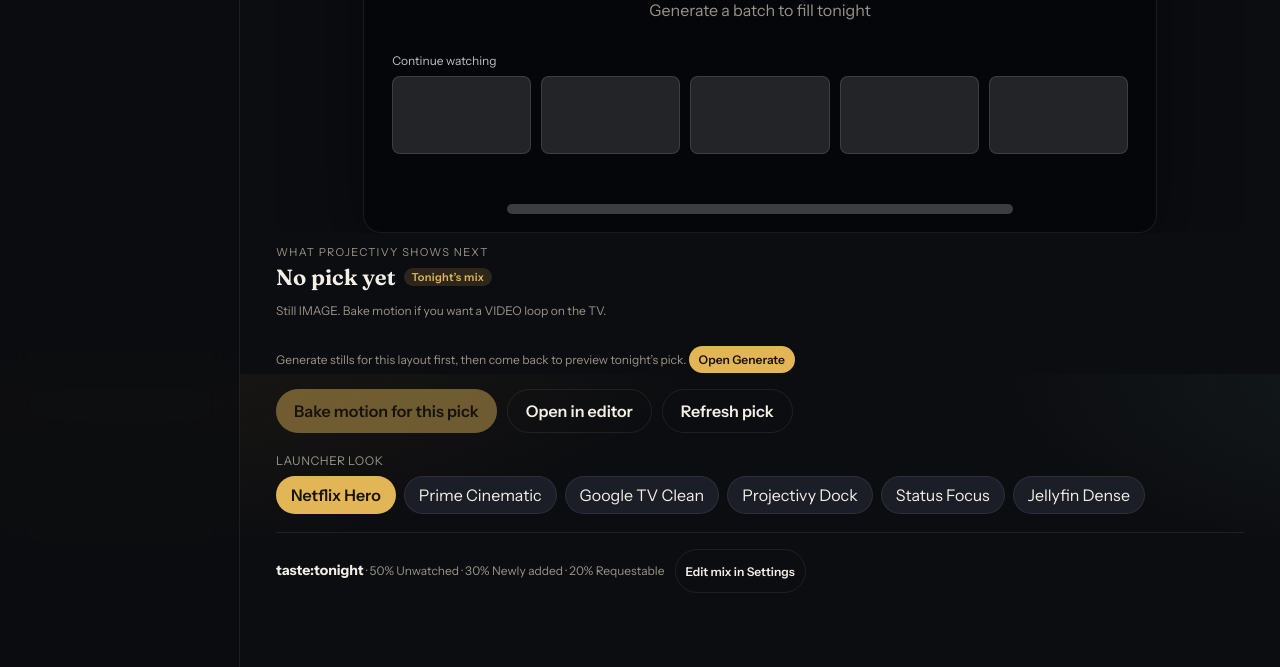
Test: Tonight page › sends mix editing to Settings without exposing generate knobs
(page scrolled)
What coordinates should you click on to do the following:
click the button "Edit mix in Settings"
I would click on:
 (740, 571)
Its box is [674,549,806,593].
(page scrolled)
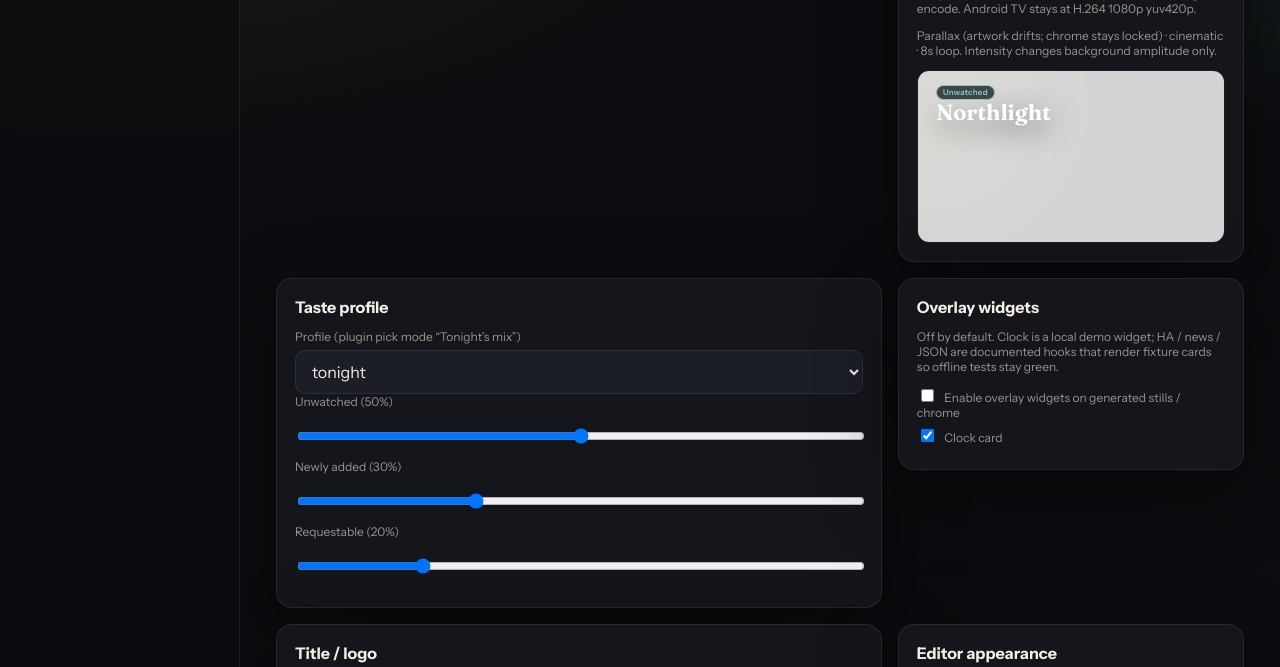
Now the heading "Taste profile" is shown, box [295,297,388,317]
